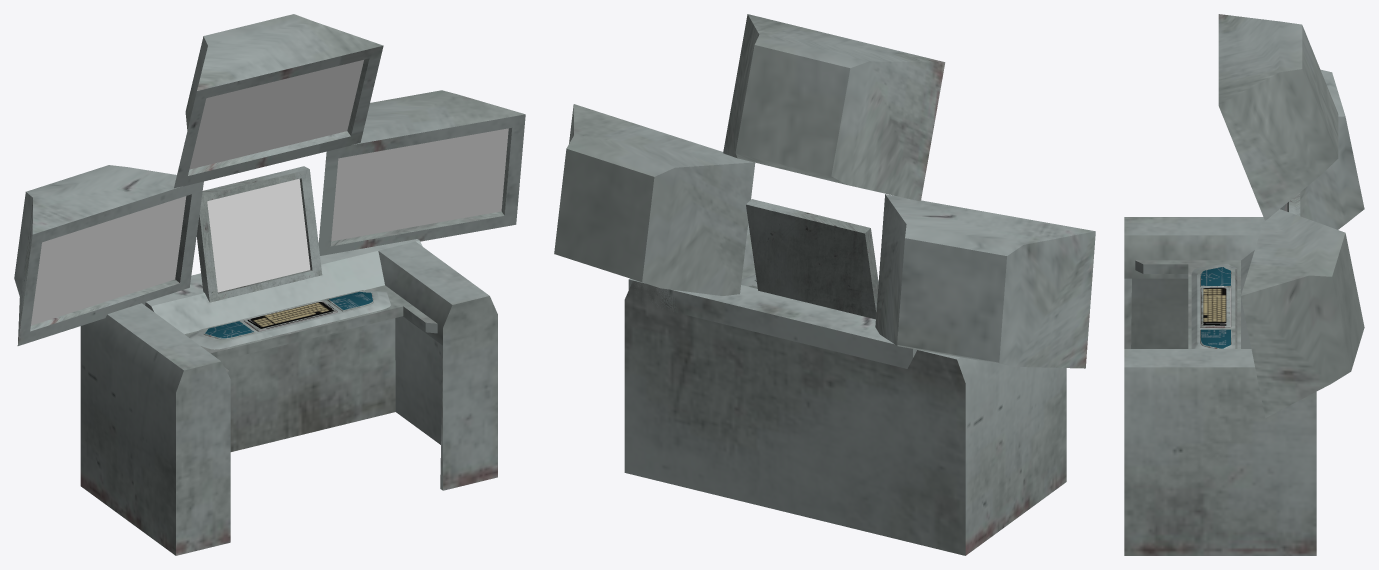
File: computer.glb
3 renders of one model, left to right at view 1: azimuth 30°, elevation 25°; view 2: azimuth 150°, elevation 25°; view 3: azimuth 270°, elevation 25°, orthographic. The views are drawn at different scales.
Parts seen in each view (by area): view 1: computer-col; view 2: computer-col; view 3: computer-col.
Part boxes in pixels (left/top/right/bottom): computer-col: left=14, top=14, right=525, bottom=555; computer-col: left=554, top=14, right=1095, bottom=555; computer-col: left=1124, top=14, right=1364, bottom=555.
Bounding box in the file's own units: 2.6 × 2.13 × 1.08.
Materials: 4 (3 with a texture image).
